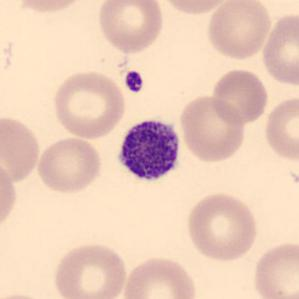Lymphocyte: (116, 111, 185, 188)
Platelets: (123, 69, 144, 94)
RBC: (50, 67, 128, 141), (183, 189, 260, 263), (177, 93, 247, 164), (50, 240, 129, 299), (34, 135, 105, 195), (204, 0, 273, 61), (94, 0, 165, 54), (119, 253, 199, 299), (209, 67, 270, 125), (0, 112, 43, 185), (259, 11, 298, 89), (250, 238, 298, 299), (262, 94, 298, 164), (0, 156, 19, 234), (157, 0, 234, 16), (9, 0, 89, 15)
